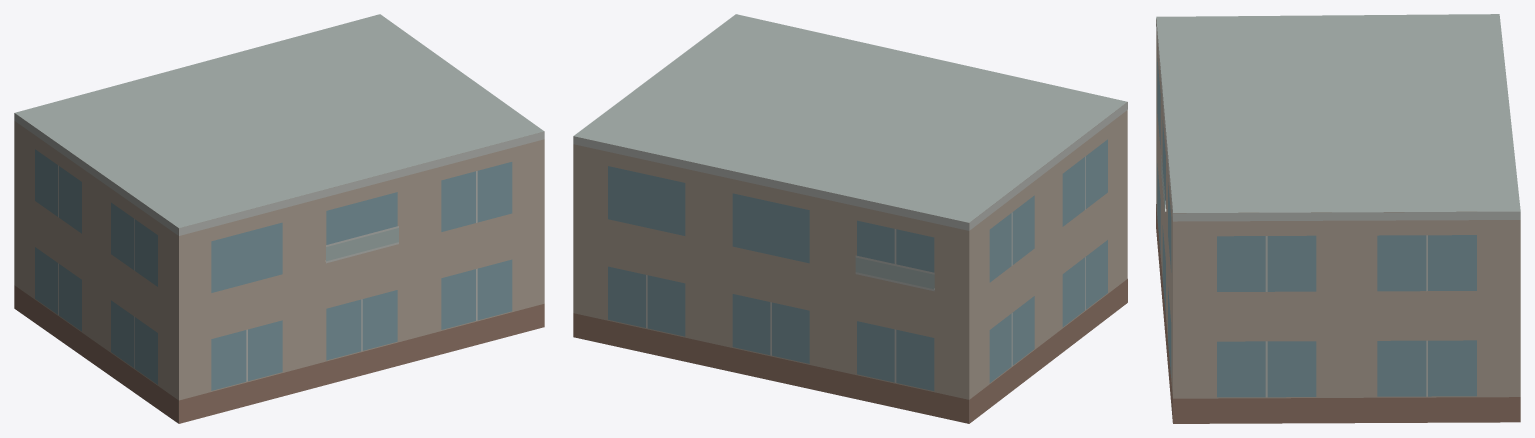
The model's file is survey-upis-32760483.glb.
3 renders of one model, left to right at view 1: azimuth 30°, elevation 25°; view 2: azimuth 150°, elevation 25°; view 3: azimuth 270°, elevation 25°, orthographic. The views are drawn at different scales.
Visible parts, largest first — view 1: survey-upis-32760483.tmp; view 2: survey-upis-32760483.tmp; view 3: survey-upis-32760483.tmp.
Boxes of the visible parts, x1,y1,x2,y2 form: survey-upis-32760483.tmp: [14, 14, 544, 423]; survey-upis-32760483.tmp: [573, 14, 1127, 423]; survey-upis-32760483.tmp: [1156, 14, 1520, 423].
Bounding box in the file's own units: 12.37 × 6.1 × 9.57.
